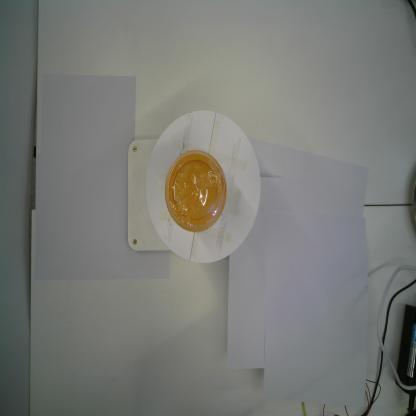Instant Drink: (164, 150, 226, 232)
